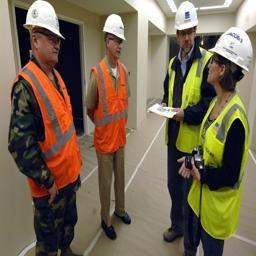hat: (14, 1, 76, 62), (205, 19, 256, 77), (94, 1, 133, 52), (164, 1, 206, 48)
vest: (6, 59, 93, 208), (188, 84, 256, 242), (82, 49, 136, 154), (160, 48, 210, 161)
